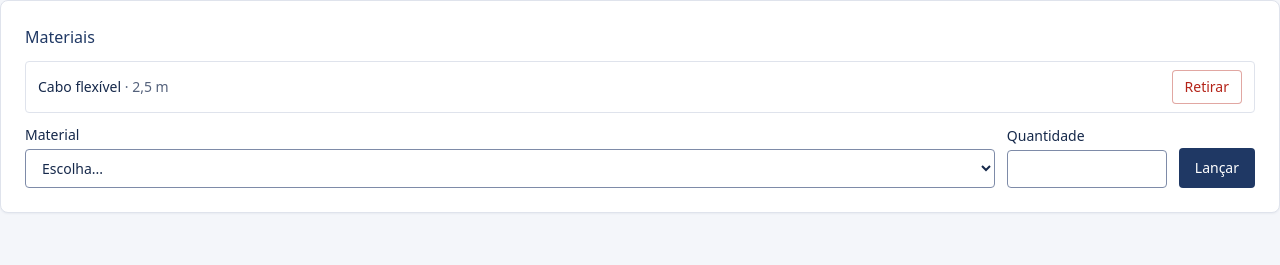
Test: Materiais do chamado (RF07) › material já lançado: o botão diz que corrige, e a ajuda diz que substitui
Select "Cabo flexível (m)" in the dropdown labelled "Material" at (510, 168), box x1=25 y1=149 x2=995 y2=188
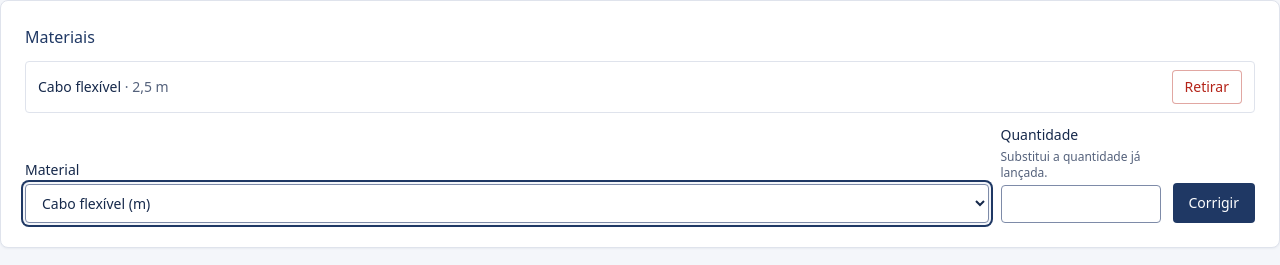
Expected: the button "Corrigir" is shown, x1=1172 y1=183 x2=1255 y2=223
Expected: the text "Substitui a quantidade já lançada." is shown, x1=1000 y1=149 x2=1160 y2=181
